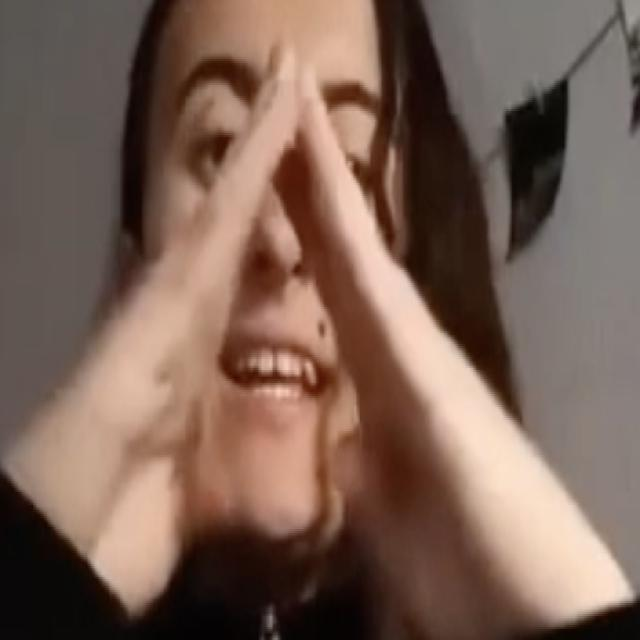casa: (14, 28, 622, 614)
